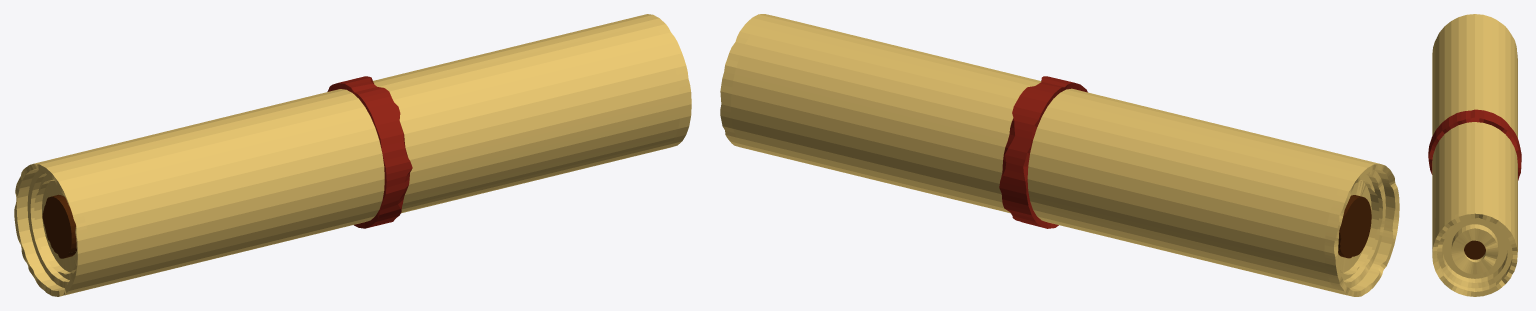
Rendered from paper.fbx.
3 views of the same model, side by side, from view 1: azimuth 30°, elevation 25°; view 2: azimuth 150°, elevation 25°; view 3: azimuth 270°, elevation 25° (orthographic). The views are drawn at different scales.
Visible parts, largest first — view 1: Cylinder.002; view 2: Cylinder.002; view 3: Cylinder.002.
Boxes of the visible parts, bbox=[...] form: Cylinder.002: bbox=[14, 14, 691, 296]; Cylinder.002: bbox=[720, 14, 1399, 296]; Cylinder.002: bbox=[1428, 14, 1521, 296].
Size of the model in its own units: 76.86 by 16.32 by 15.23.
